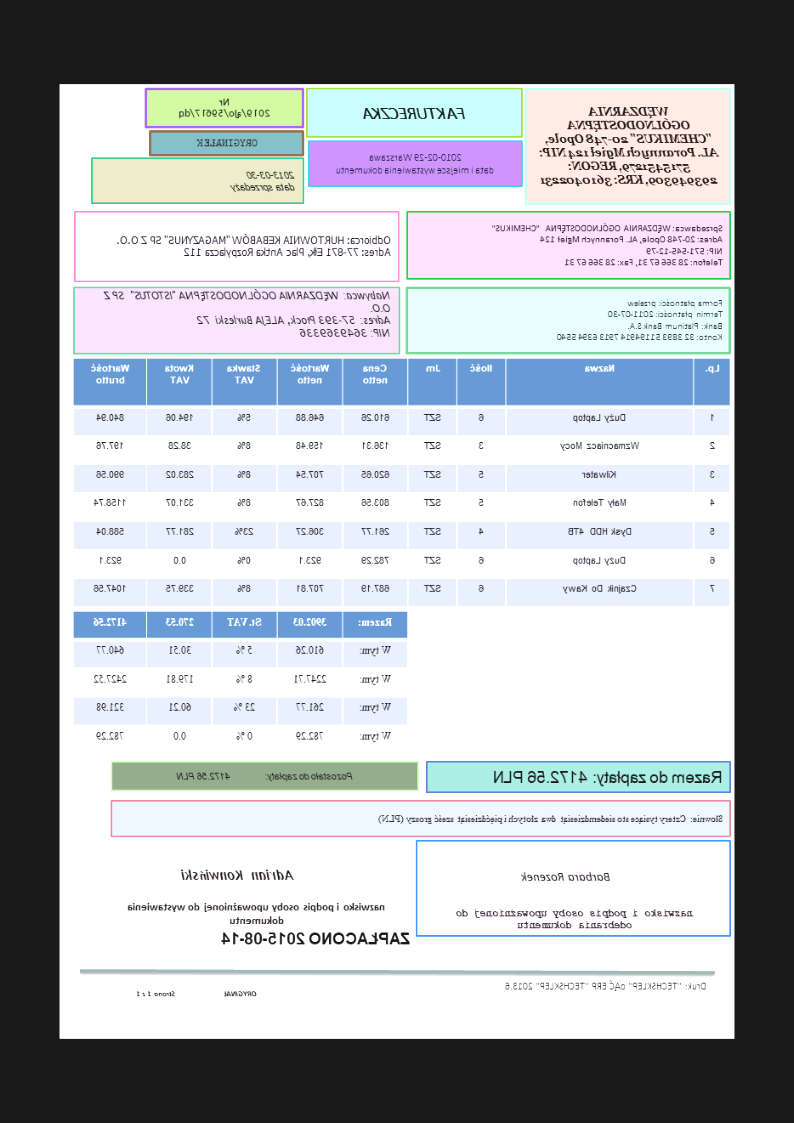Table: (71, 357, 733, 610), (71, 610, 410, 756)
TextBox: (536, 105, 722, 190), (101, 287, 394, 340), (489, 221, 726, 270), (115, 231, 394, 261), (557, 296, 724, 343), (122, 899, 388, 926), (453, 904, 694, 932), (377, 811, 725, 827), (491, 766, 723, 788), (334, 149, 497, 178), (221, 927, 413, 948), (501, 977, 710, 993), (175, 768, 356, 785), (176, 95, 272, 121), (228, 166, 298, 196), (361, 103, 468, 122), (179, 867, 297, 883), (134, 986, 258, 1000), (517, 869, 614, 884), (194, 134, 261, 149)
